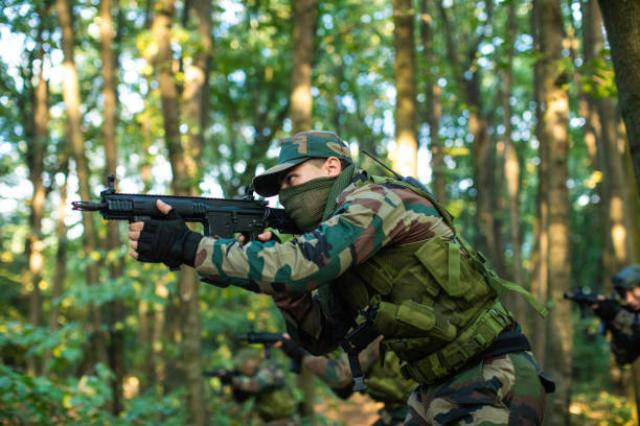other: (129, 141, 545, 424), (589, 268, 639, 415), (206, 346, 296, 421)
